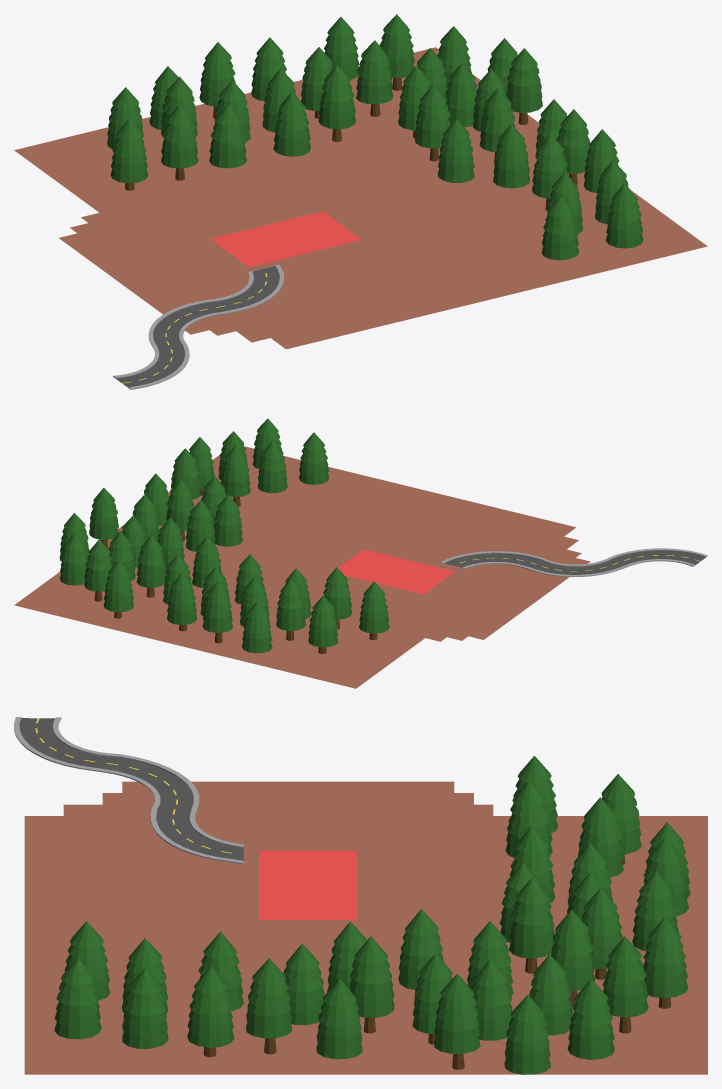
Rendered from Fase Mansao.fbx.
The picture shows the model from 3 angles, top to bottom: view 1: azimuth 30°, elevation 25°; view 2: azimuth 150°, elevation 25°; view 3: azimuth 270°, elevation 25°; orthographic projection. The views are drawn at different scales.
Visible parts, largest first — view 1: Fase Mansao, Rua Mansao, Ponto Mansao, Arvore M.012, Arvore M.015, Arvore M.002, Arvore M.001, Arvore M.023, Arvore M.009, Arvore M.035, Arvore M.028, Arvore M.036 (+26 smaller); view 2: Fase Mansao, Rua Mansao, Ponto Mansao, Arvore M.004, Arvore M.015, Arvore M.008, Arvore M.003, Arvore M.001, Arvore M.011, Arvore M.016, Arvore M.023, Arvore M.032 (+26 smaller); view 3: Fase Mansao, Rua Mansao, Ponto Mansao, Arvore M.023, Arvore M.030, Arvore M.012, Arvore M.031, Arvore M.017, Arvore M.016, Arvore M.027, Arvore M.033, Arvore M.035 (+26 smaller).
Part boxes in pixels (<box>): Fase Mansao: <box>14,47,707,349</box>; Rua Mansao: <box>113,264,283,389</box>; Ponto Mansao: <box>211,211,361,267</box>; Arvore M.012: <box>318,65,355,141</box>; Arvore M.015: <box>356,40,393,116</box>; Arvore M.002: <box>161,104,198,180</box>; Arvore M.001: <box>110,119,148,190</box>; Arvore M.023: <box>506,48,542,124</box>; Arvore M.009: <box>273,92,310,156</box>; Arvore M.035: <box>605,184,643,248</box>; Arvore M.028: <box>493,124,529,188</box>; Arvore M.036: <box>541,196,579,260</box>; Fase Mansao: <box>14,446,590,688</box>; Rua Mansao: <box>441,548,707,577</box>; Ponto Mansao: <box>338,549,454,594</box>; Arvore M.004: <box>276,578,306,640</box>; Arvore M.015: <box>136,535,165,597</box>; Arvore M.008: <box>202,581,232,643</box>; Arvore M.003: <box>308,595,338,653</box>; Arvore M.001: <box>359,581,389,640</box>; Arvore M.011: <box>167,573,197,631</box>; Arvore M.016: <box>103,560,133,618</box>; Arvore M.023: <box>89,488,118,548</box>; Arvore M.032: <box>221,445,250,506</box>; Fase Mansao: <box>24,781,707,1074</box>; Rua Mansao: <box>14,717,243,863</box>; Ponto Mansao: <box>259,850,356,919</box>; Arvore M.023: <box>434,973,480,1069</box>; Arvore M.030: <box>246,958,292,1054</box>; Arvore M.012: <box>509,877,554,973</box>; Arvore M.031: <box>187,967,234,1057</box>; Arvore M.017: <box>602,936,648,1033</box>; Arvore M.016: <box>643,917,688,1008</box>; Arvore M.027: <box>349,936,394,1033</box>; Arvore M.033: <box>122,967,168,1048</box>; Arvore M.035: <box>54,958,101,1039</box>.
Bounding box in the file's own units: 5801 × 710 × 4679.
